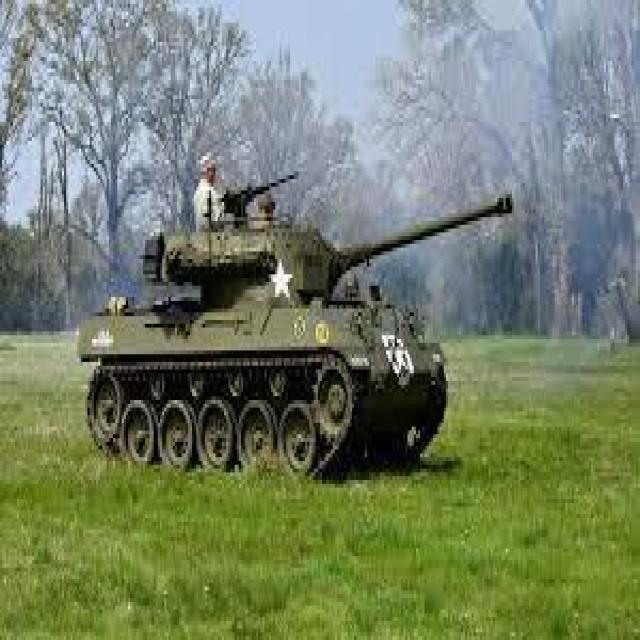MIL_MBT: (63, 46, 526, 549)
